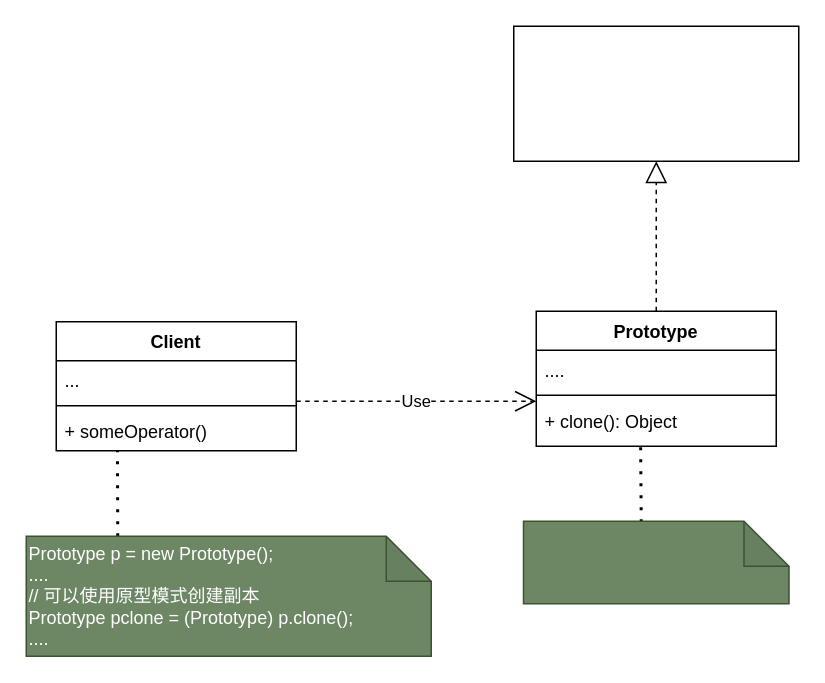
The diagram is 825 pixels wide and 683 high, and some of its shapes have lost their labels. Each missing label, with the centre of its shape:
<<Interface>> Cloneable + clone(): Object: point 655,93
return new Prototype();: point 655,562
